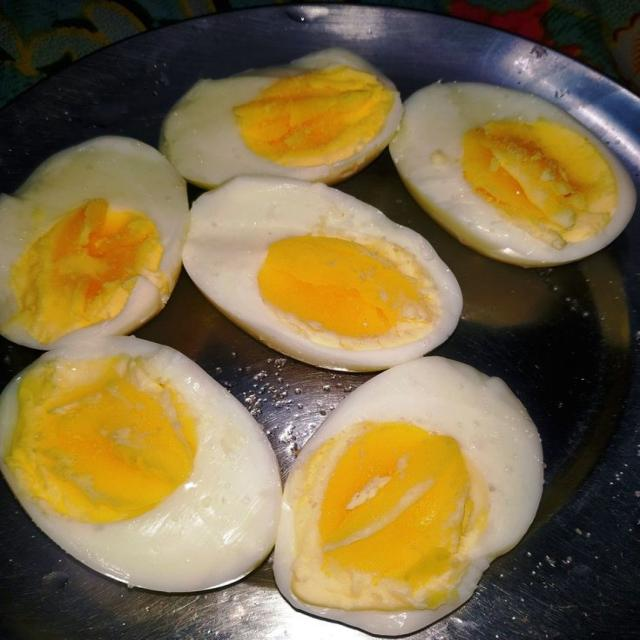eggs: (54, 82, 640, 601)
